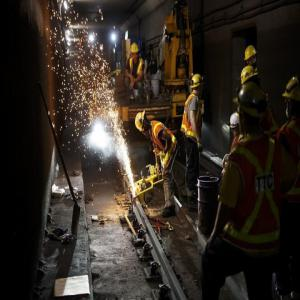white: (230, 112, 241, 136)
yellow: (239, 82, 268, 133), (285, 77, 300, 119), (241, 67, 259, 89), (136, 112, 151, 136), (191, 74, 205, 97), (245, 46, 258, 67), (131, 43, 141, 62)
